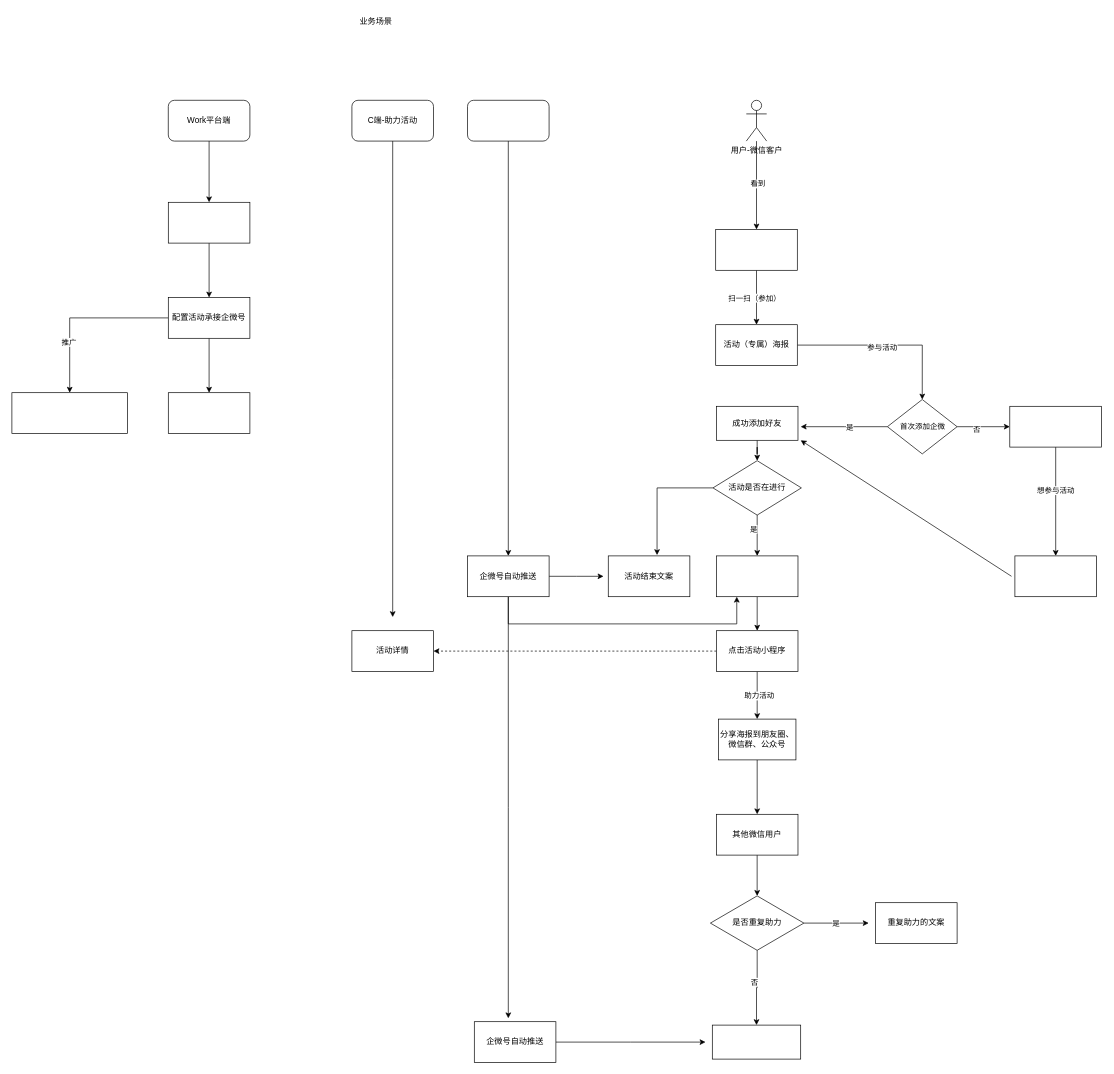
The diagram is 1114 pixels wide and 1074 high, and some of its shapes have lost their labels. The shapes that lost their labels are listed below. From the top down, each one's centre as x and y in pixels, then its label:
[508,120]: 第三方-企微端
[209,222]: 活动配置
[756,249]: 朋友圈、微信群、公众号
[69,413]: 下载专属（含企微号）活动海报
[209,413]: 助力文案等
[1055,426]: 不会触发该活动 （ 之前已经是老朋友 ）
[757,576]: 触发首次活动后裂变文案、活动小程序等
[1055,576]: 双方互删（再次添加企微号）
[756,1041]: 推送助力成功的文案（给助力的用户）
